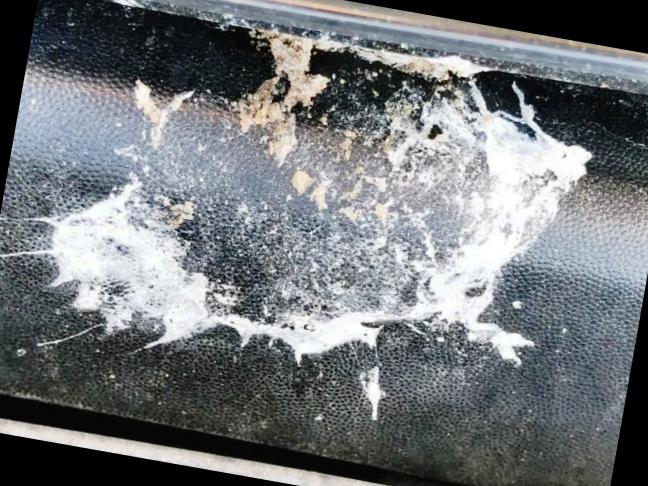Bird Poop: (38, 32, 590, 361), (360, 366, 382, 420)
